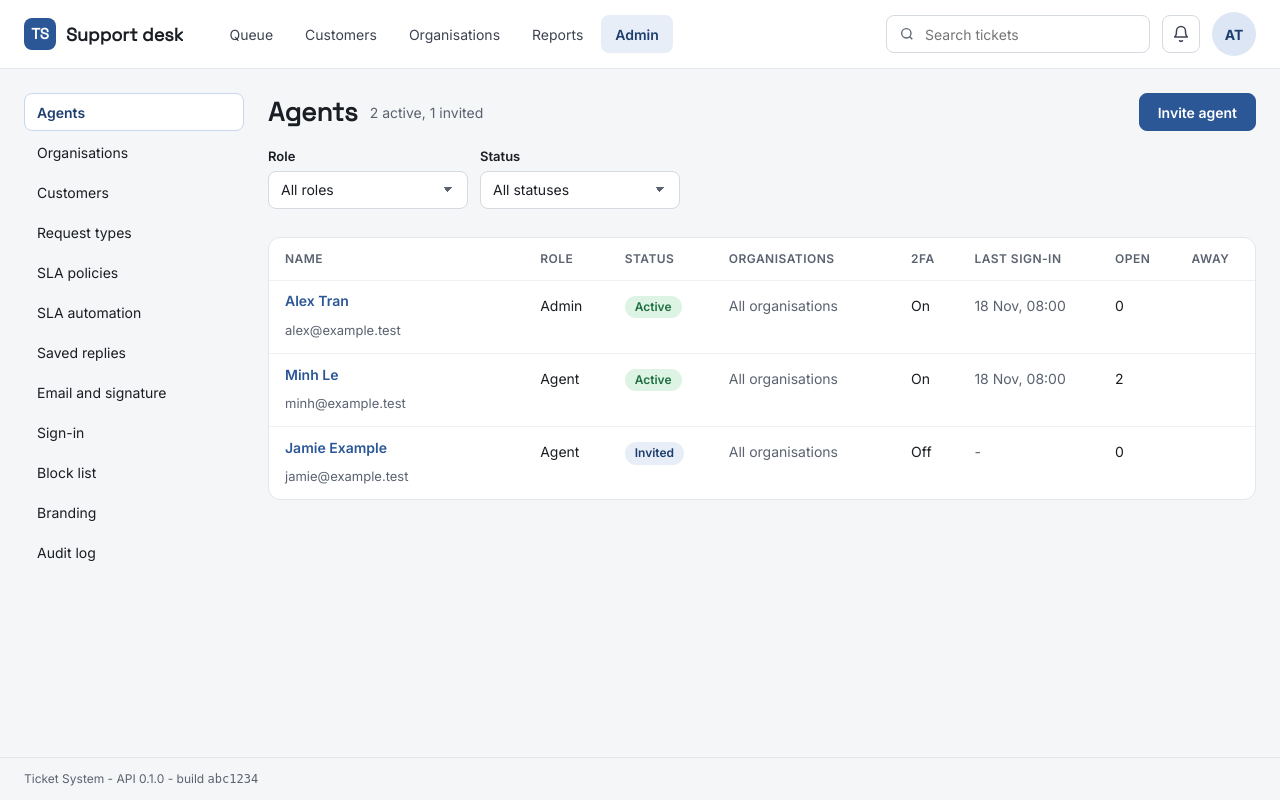
Test: Admin - Manage supporters › disables demote and deactivate for yourself, with the server's reason
Step 1. Click the button "Alex Tran" → (317, 302), box [285, 282, 349, 320]
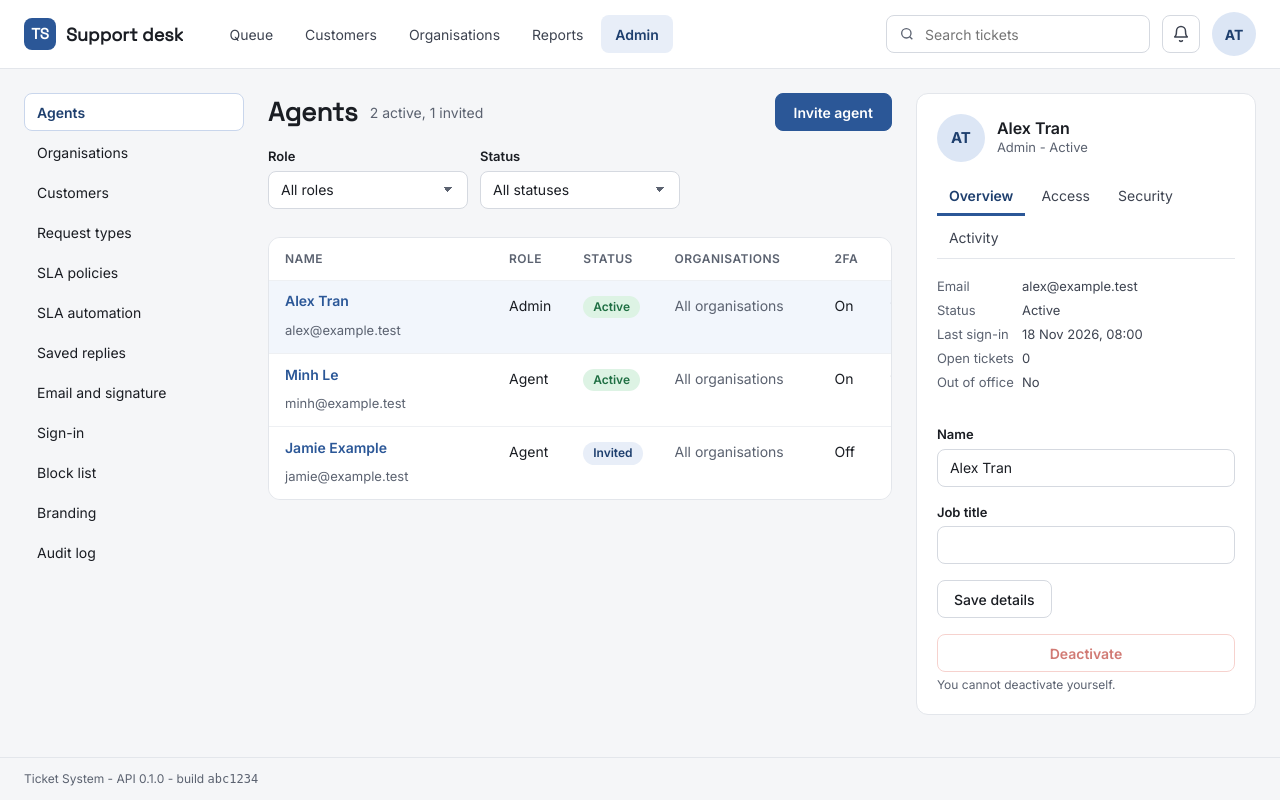
Check: the button "Deactivate" is disabled, box [937, 634, 1235, 672]
Check: the text "You cannot deactivate yourself." is shown, box [937, 678, 1115, 692]
Step 2. Click the tab "Access" → (1066, 197), box [1029, 178, 1102, 216]
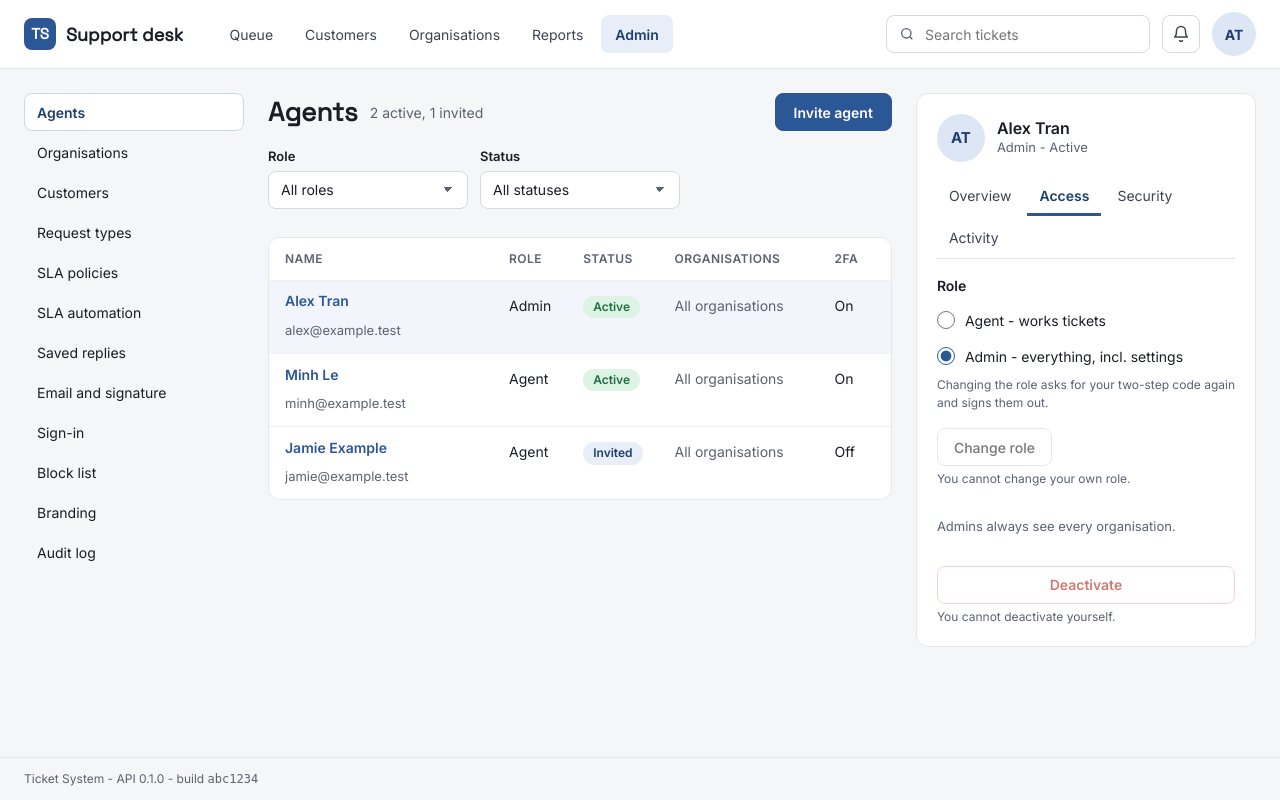
Check: the button "Change role" is disabled, box [937, 428, 1052, 466]
Check: the text "You cannot change your own role." is shown, box [937, 471, 1130, 486]
